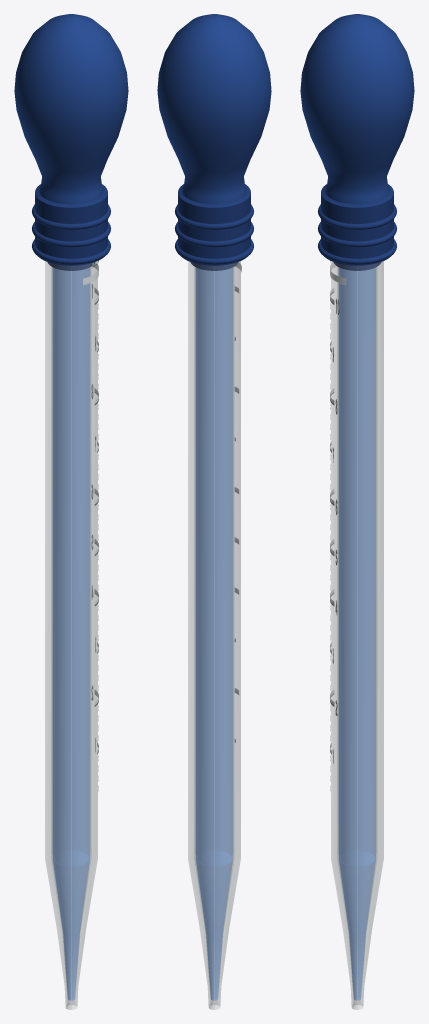
The model's file is pipette_stock.glb.
3 views of the same model, side by side, from view 1: azimuth 90°, elevation 25°; view 2: azimuth 150°, elevation 25°; view 3: azimuth 270°, elevation 25° (orthographic).
Parts seen in each view (by area): view 1: GlassBody.003, LiquidStem, PipetteBulb, PipetteCollar, LiquidTip, PipetteGraduations, DetailV2_PipGrip_PipetteStock_Root_0, DetailV2_PipGrip_PipetteStock_Root_1, DetailV2_PipGrip_PipetteStock_Root_2; view 2: GlassBody.003, LiquidStem, PipetteBulb, PipetteCollar, LiquidTip, DetailV2_PipGrip_PipetteStock_Root_0, DetailV2_PipGrip_PipetteStock_Root_1, DetailV2_PipGrip_PipetteStock_Root_2; view 3: GlassBody.003, LiquidStem, PipetteBulb, PipetteCollar, LiquidTip, PipetteGraduations, DetailV2_PipGrip_PipetteStock_Root_0, DetailV2_PipGrip_PipetteStock_Root_1, DetailV2_PipGrip_PipetteStock_Root_2.
Part boxes in pixels (x1,y1,x2,y2): GlassBody.003: (45, 261, 97, 1009); LiquidStem: (53, 267, 89, 865); PipetteBulb: (14, 14, 128, 204); PipetteCollar: (35, 184, 107, 265); LiquidTip: (53, 858, 89, 1000); PipetteGraduations: (83, 261, 98, 790); DetailV2_PipGrip_PipetteStock_Root_0: (32, 239, 110, 264); DetailV2_PipGrip_PipetteStock_Root_1: (32, 222, 110, 247); DetailV2_PipGrip_PipetteStock_Root_2: (32, 204, 110, 229); GlassBody.003: (188, 261, 240, 1009); LiquidStem: (196, 267, 232, 865); PipetteBulb: (157, 14, 271, 204); PipetteCollar: (178, 184, 250, 265); LiquidTip: (196, 858, 232, 1000); DetailV2_PipGrip_PipetteStock_Root_0: (175, 239, 253, 264); DetailV2_PipGrip_PipetteStock_Root_1: (175, 222, 253, 247); DetailV2_PipGrip_PipetteStock_Root_2: (175, 204, 253, 229); GlassBody.003: (331, 261, 383, 1009); LiquidStem: (339, 267, 375, 865); PipetteBulb: (300, 14, 414, 204); PipetteCollar: (321, 184, 393, 265); LiquidTip: (339, 858, 375, 1000); PipetteGraduations: (330, 261, 345, 790); DetailV2_PipGrip_PipetteStock_Root_0: (318, 239, 396, 264); DetailV2_PipGrip_PipetteStock_Root_1: (318, 222, 396, 247); DetailV2_PipGrip_PipetteStock_Root_2: (318, 204, 396, 229).
Size of the model in its own units: 0.025 by 0.2395 by 0.025.
Materials: 5 (1 with a texture image).
